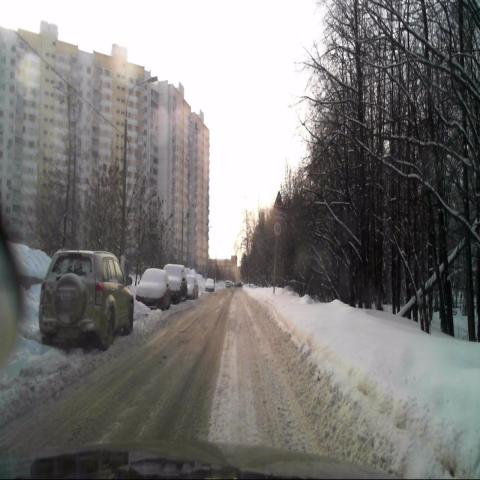1_23: (274, 191, 284, 208)
3_24: (273, 220, 282, 237)
